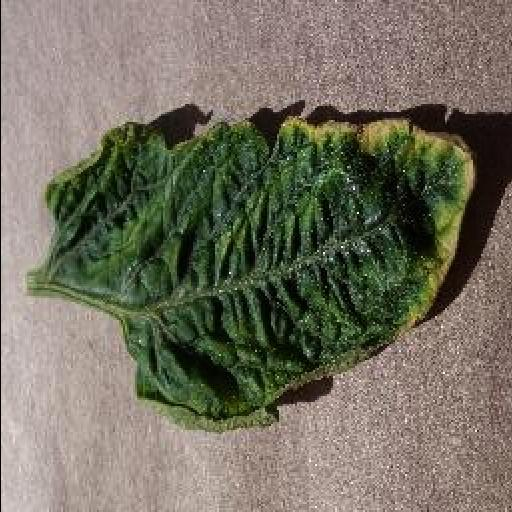disease_tomato: (42, 115, 482, 431)
